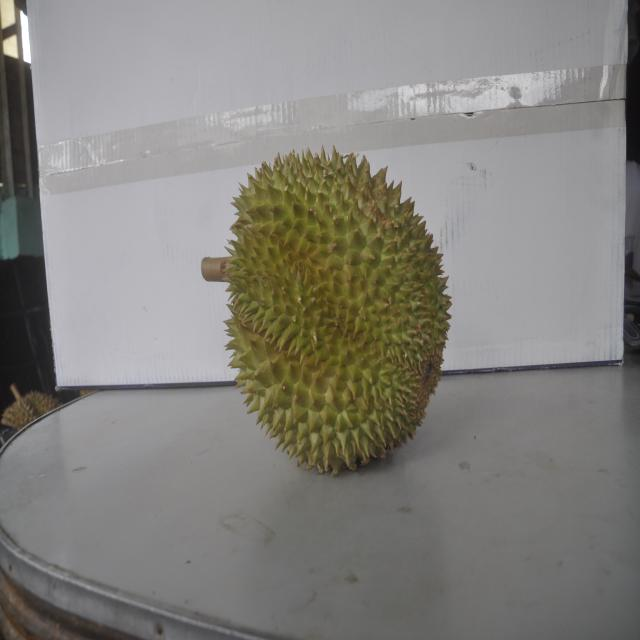mature: (219, 143, 441, 476), (1, 389, 59, 431)
